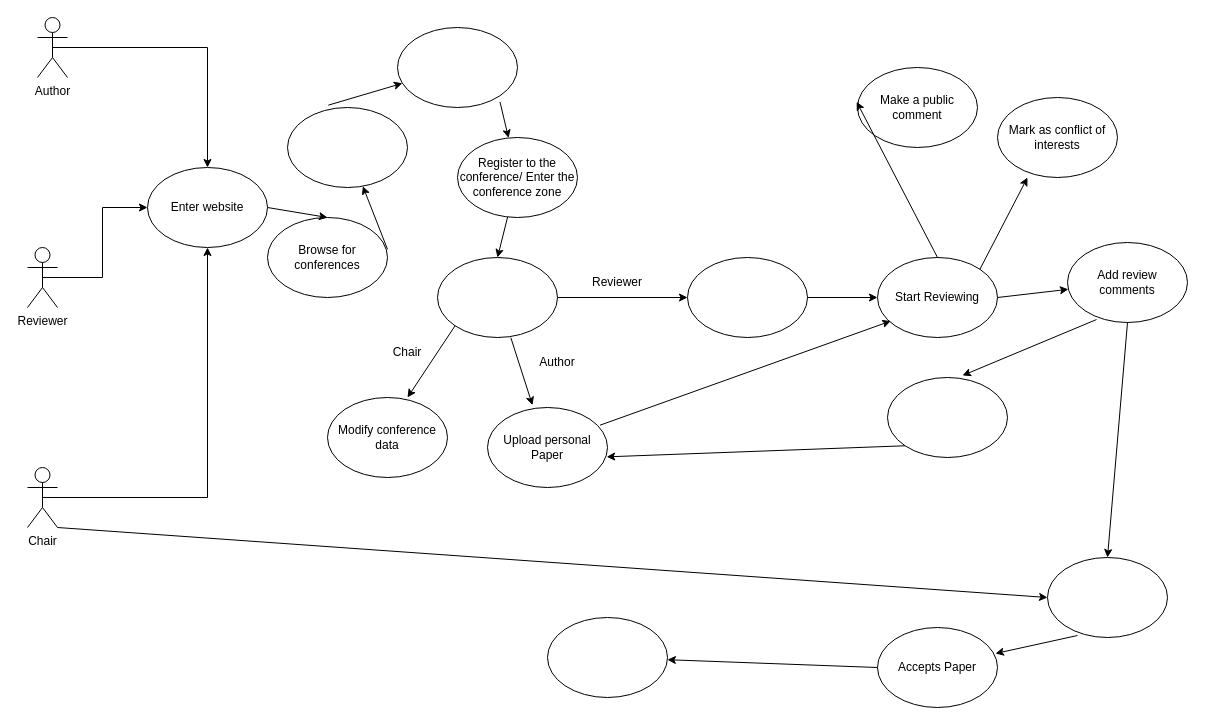
Image size: 1205x725. Some labels were removed from this diagram. The box of each missing label's shape, as (x1, y1, x2, y2) in pixels:
Add Paper to a session: (546, 616, 668, 698)
Asks to Review: (686, 256, 808, 338)
Login/Register: (396, 26, 518, 108)
No Comments: (1046, 556, 1168, 638)
See conference Page: (286, 106, 408, 188)
See papers: (436, 256, 558, 338)
There are comments: (886, 376, 1008, 458)
